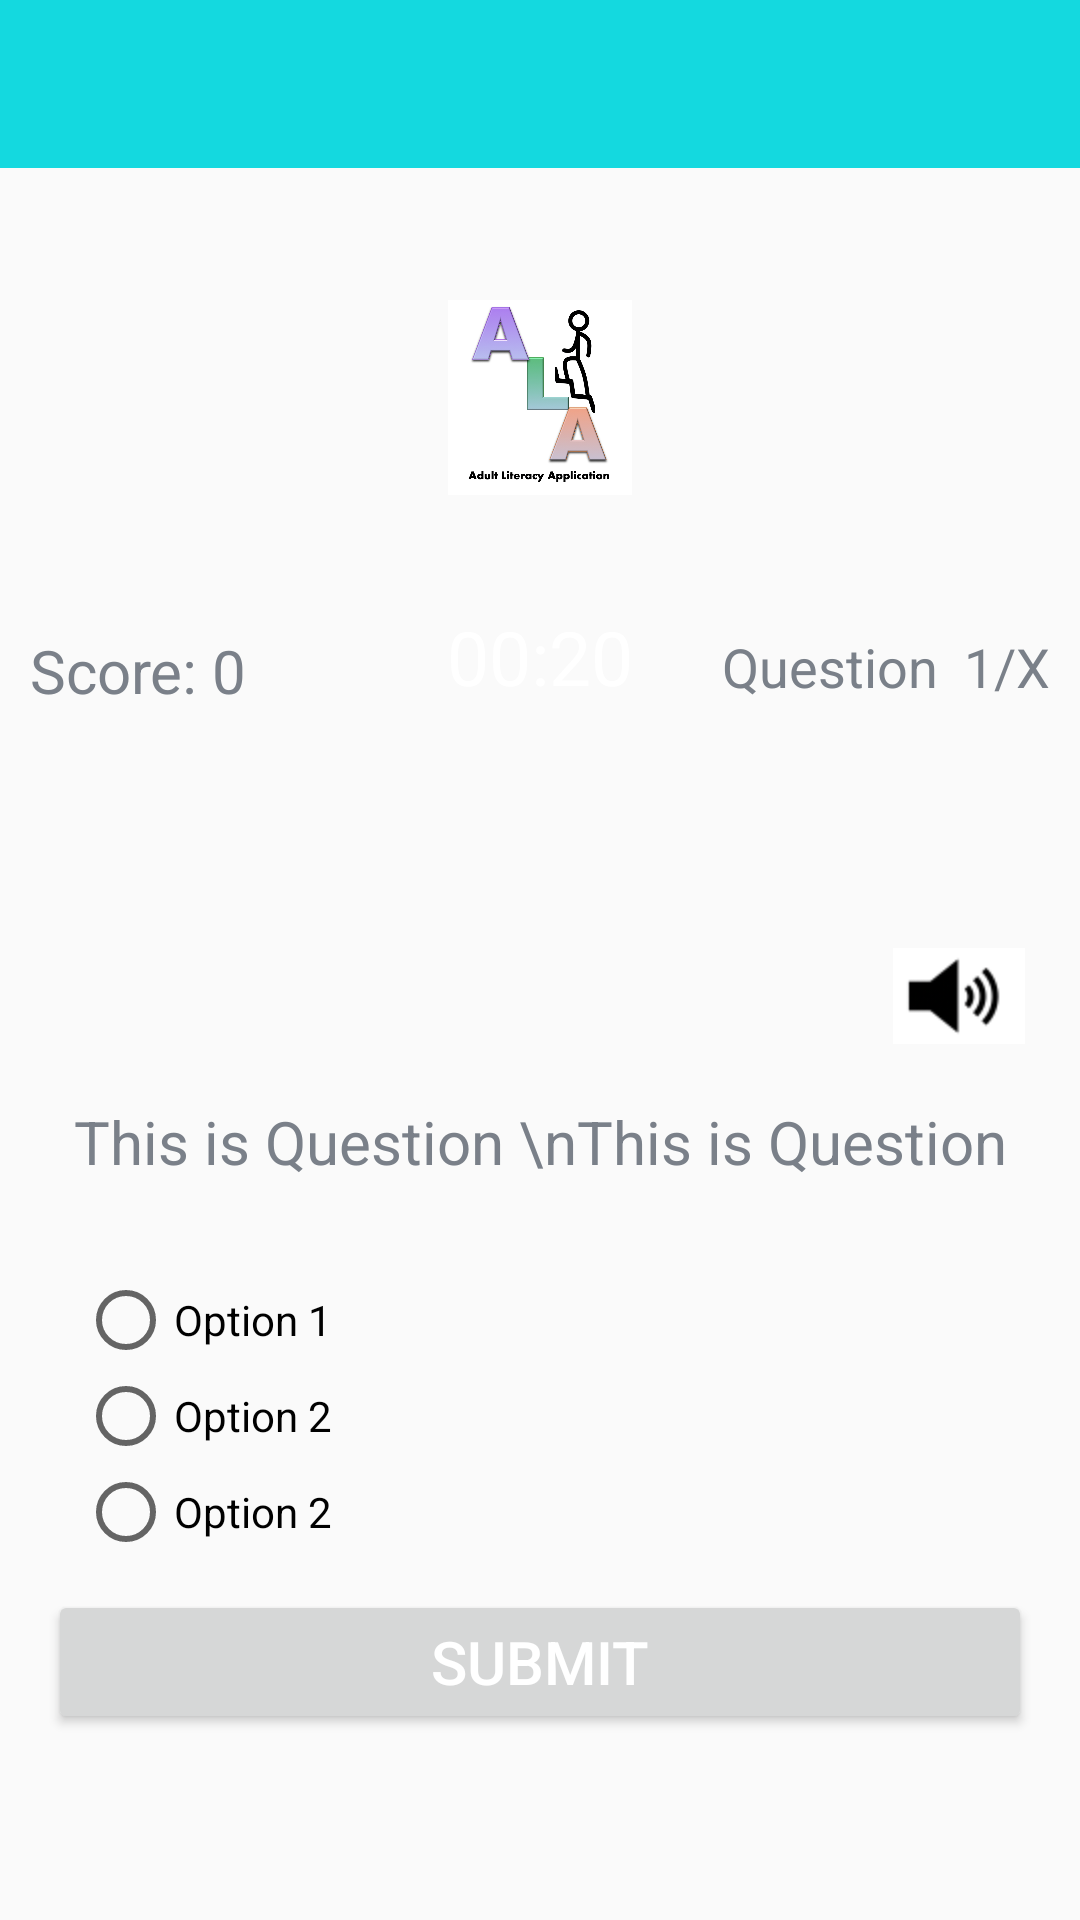

Where to tap for icons on this 1080 x 1920 app screen, as (x=x, y=y):
sound: (x=954, y=996)
